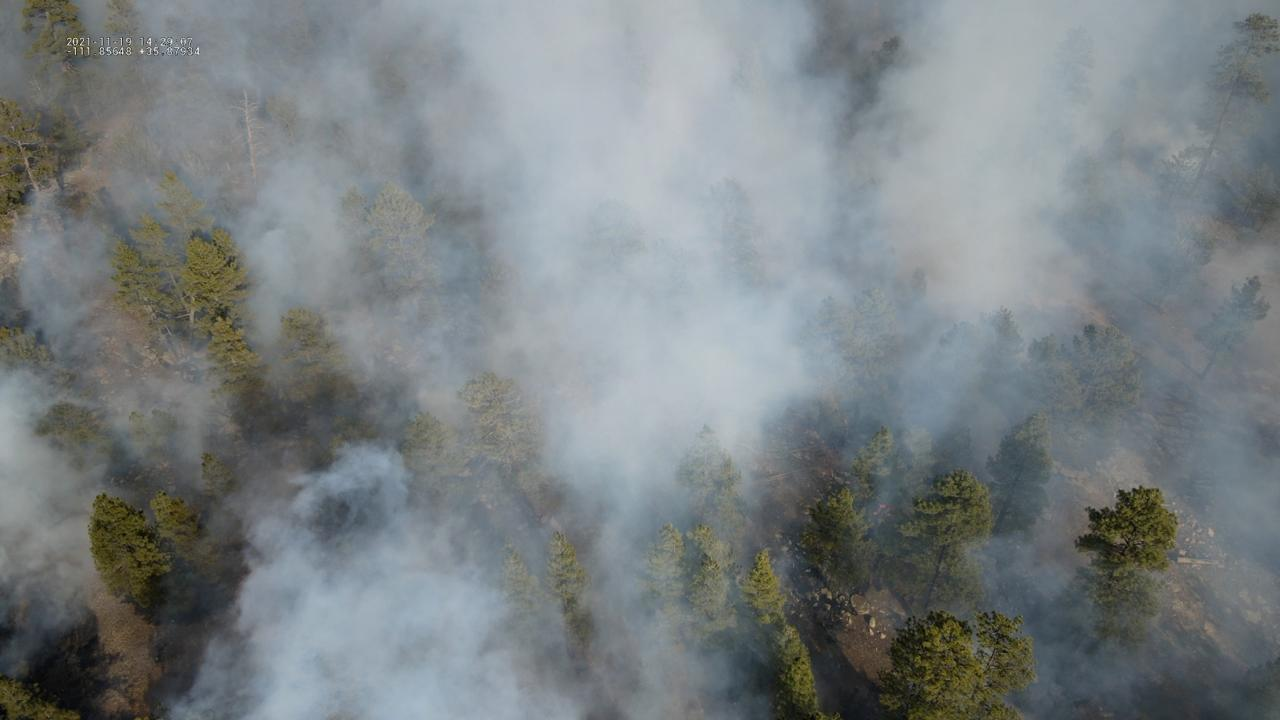fire: (872, 503, 888, 519)
smoke: (0, 0, 1280, 720)
